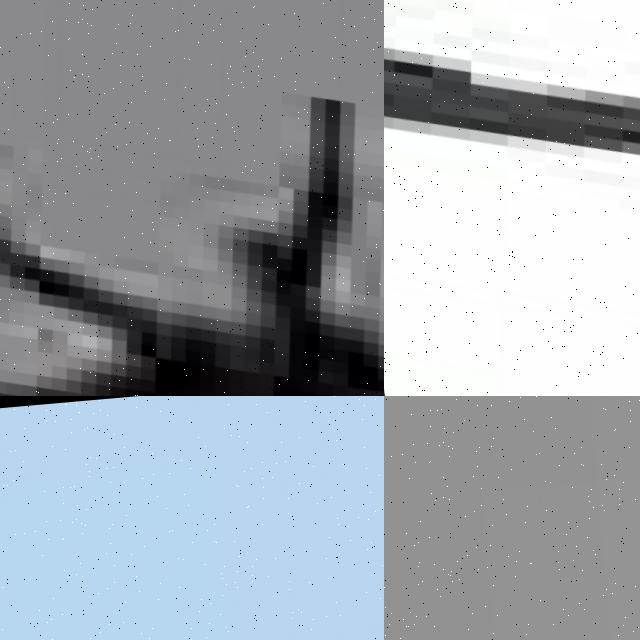0: (0, 0, 384, 396)
drone: (384, 0, 640, 396)
